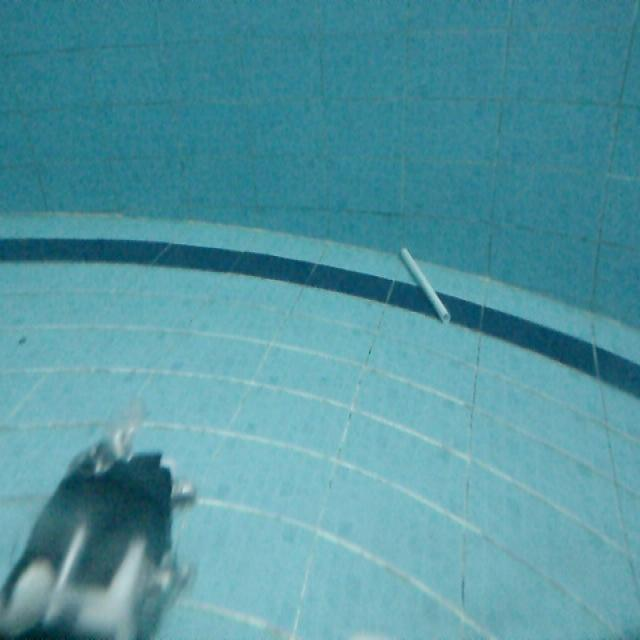Cube: (401, 248, 453, 330)
